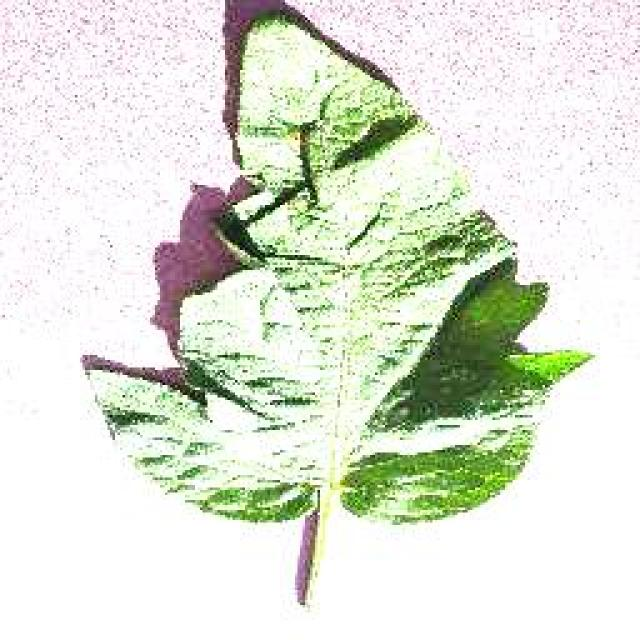Tomato___Target_Spot: (90, 12, 590, 608)
